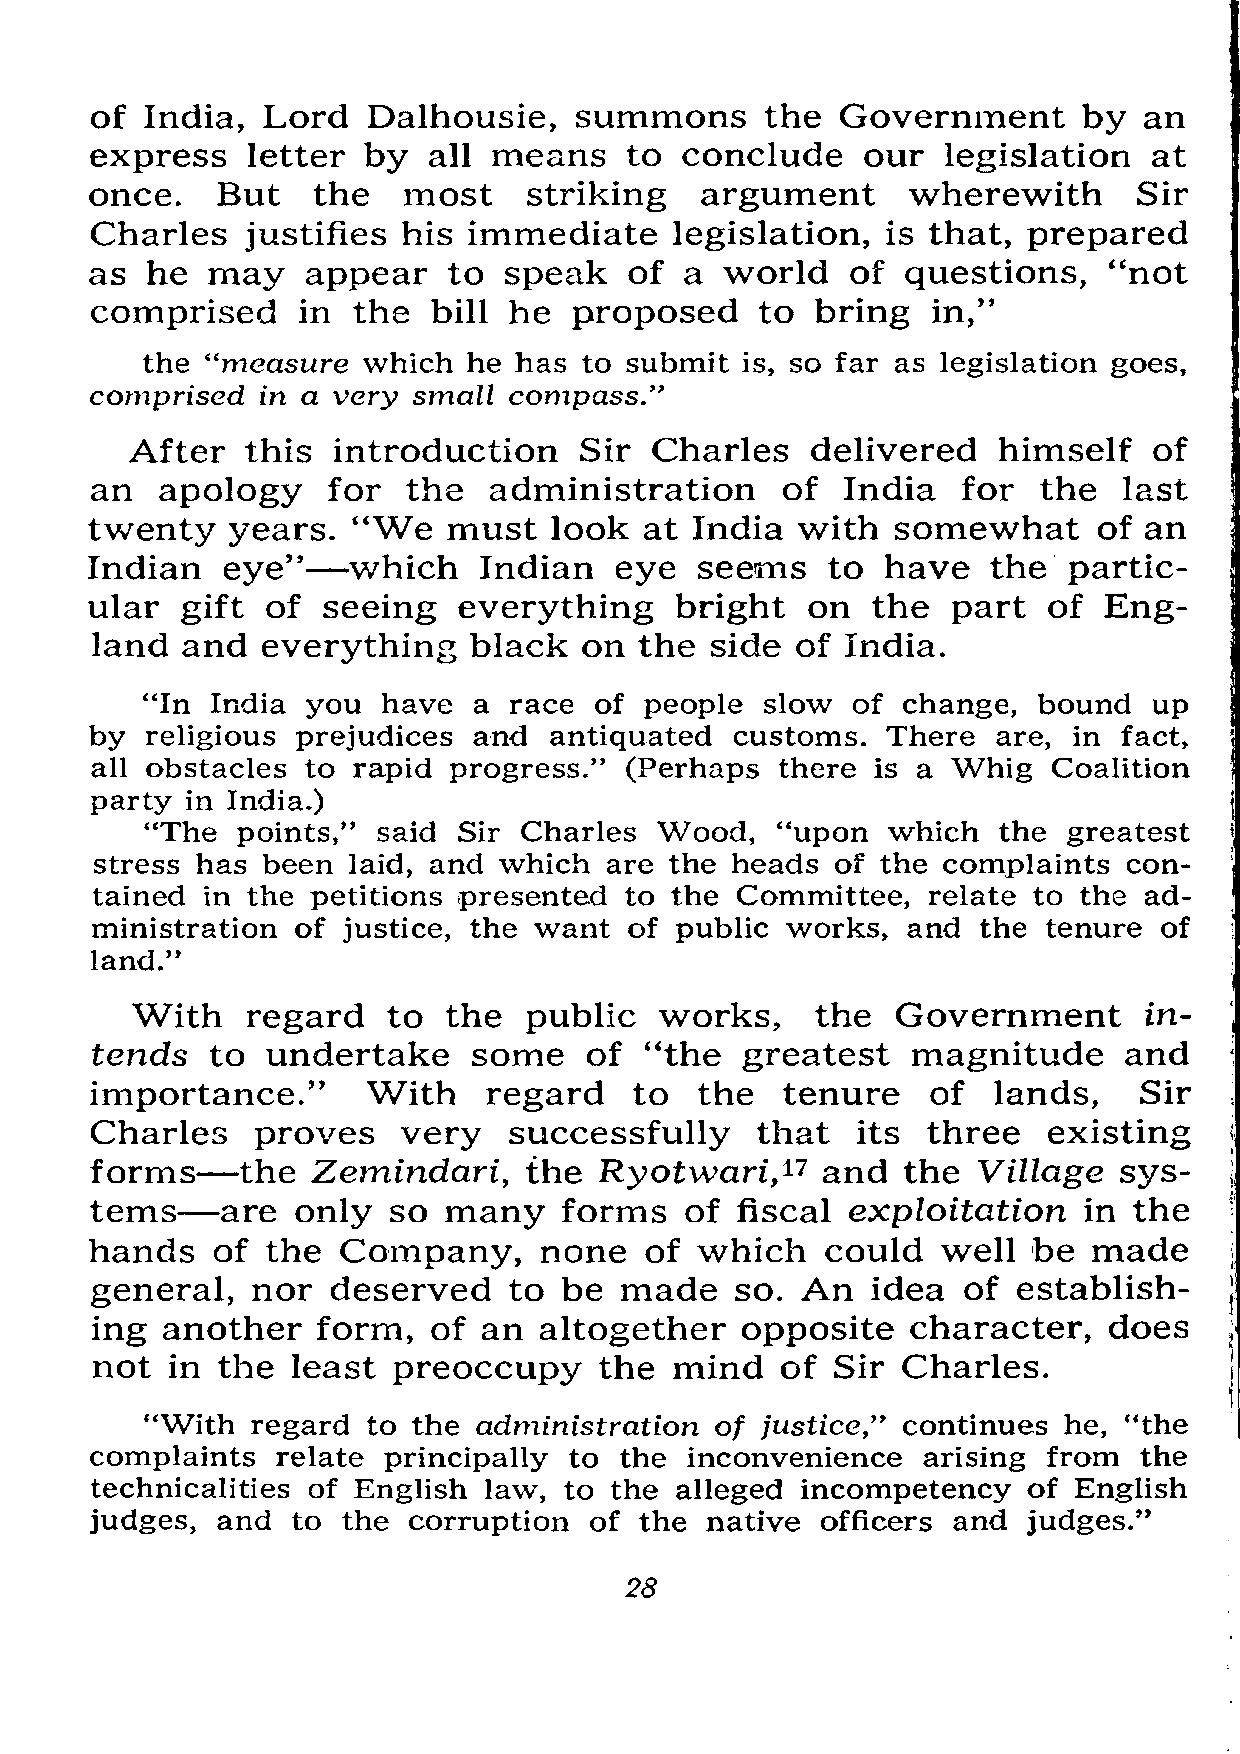content: (83, 95, 1193, 1541)
content_pagenumber: (613, 1567, 662, 1601)
